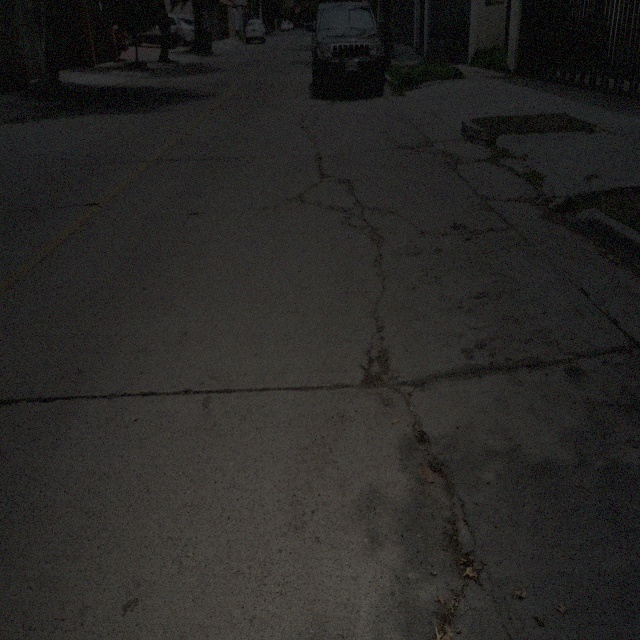pothole: (444, 521, 485, 582)
